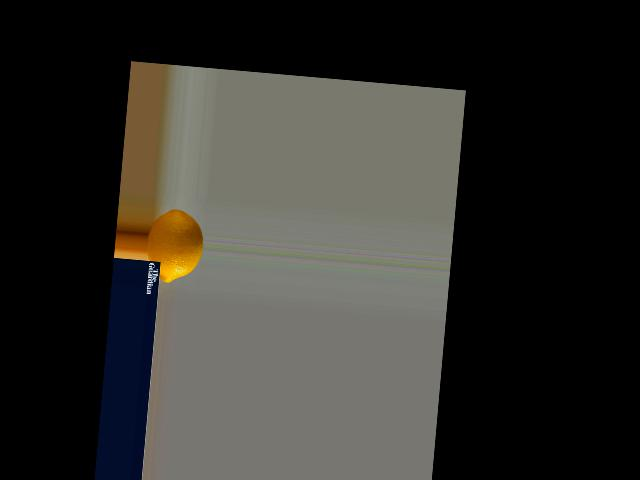lemon: (143, 206, 206, 283)
